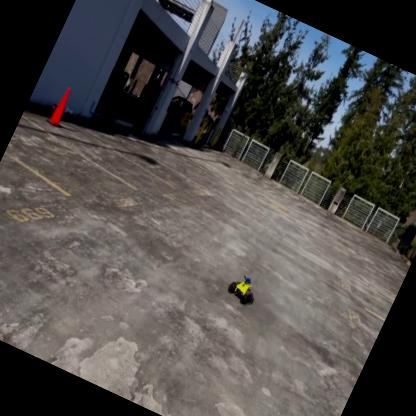cone: (45, 83, 77, 128)
mushr_car: (221, 268, 263, 311)
